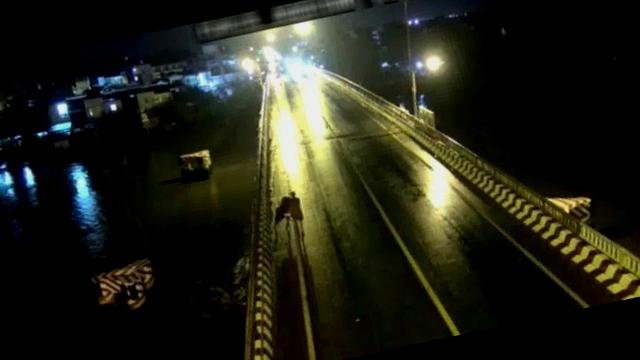Bike: (270, 189, 308, 242)
